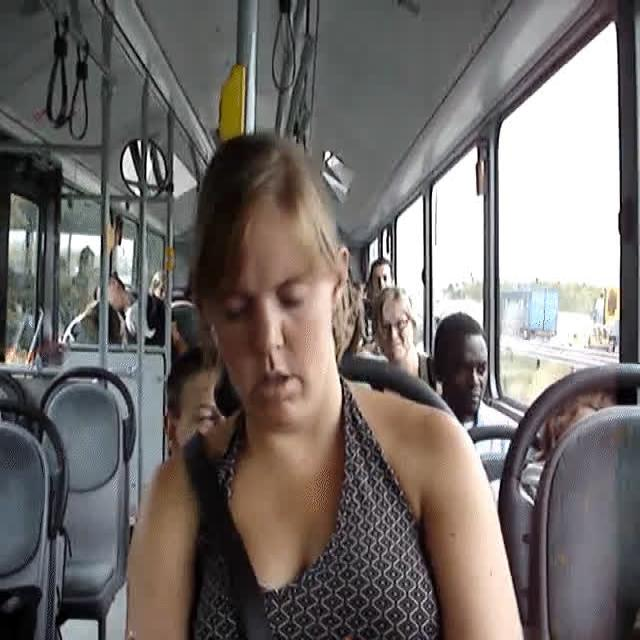no-seatbelt: (190, 124, 354, 430)
